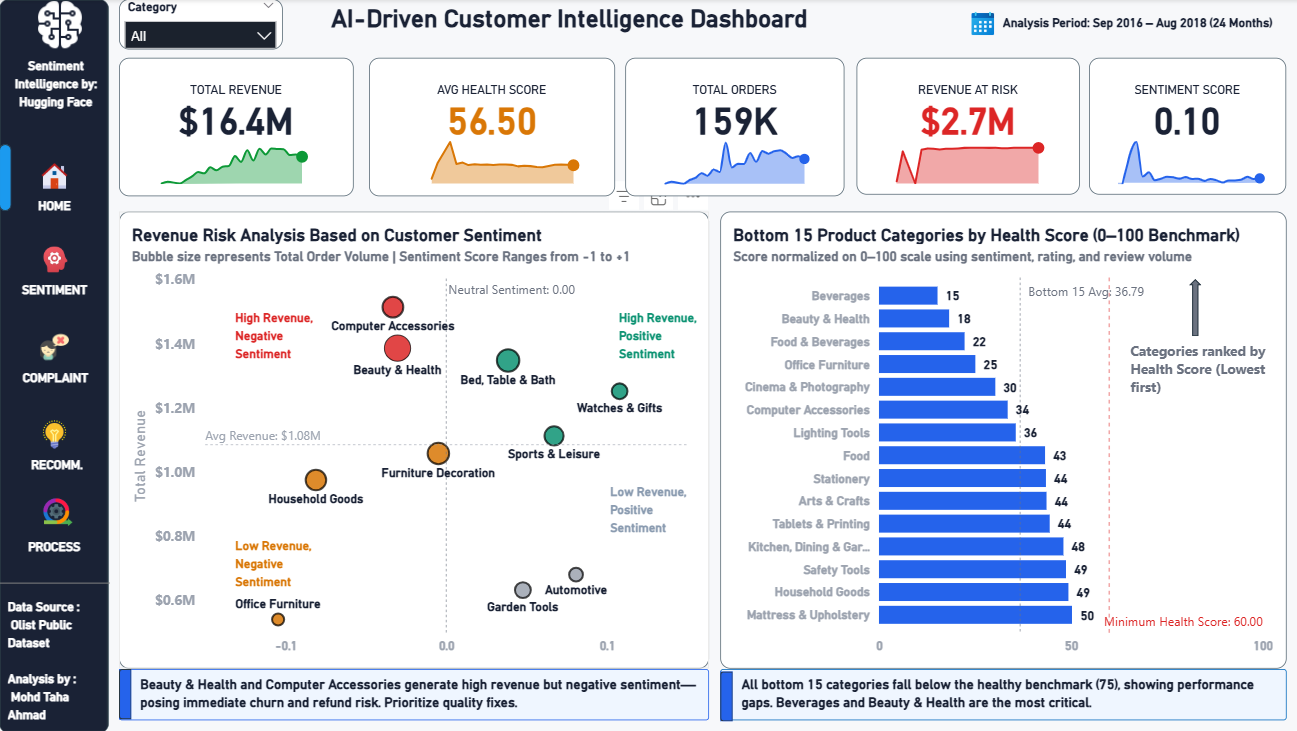

This screenshot's page, from the dashboard's own definition file:
{"tool":"powerbi","page":{"name":"Executive Overview","canvas":[1280,720],"ordinal":0},"visuals":[{"type":"scatterChart","title":"Revenue Risk Analysis Based on Customer Sentiment","fields":{"Y":["sales_sentiment_table.TOTAL REVENUE"],"Size":["sales_sentiment_table.TOTAL ORDERS"],"Category":["sales_sentiment_table.clean category"],"X":["sales_sentiment_table.AVG SENTIMENT SCORE"]},"box":[118,208.6,579.1,448.7],"z":0},{"type":"textbox","box":[118,657.3,579.1,50.8],"z":1000},{"type":"cardVisual","fields":{"Data":["Sum(sales_sentiment_table.total_revenue)"]},"box":[118,57.6,230.5,135.8],"z":2000},{"type":"cardVisual","fields":{"Data":["category_health_table.avg health score"]},"box":[363.6,57.6,241.5,135.8],"z":3000},{"type":"cardVisual","fields":{"Data":["sales_sentiment_table.TOTAL ORDERS"]},"box":[614.8,57.6,215.4,135.8],"z":4000},{"type":"cardVisual","fields":{"Data":["complaint_analysis_table.REVENUE AT RISK"]},"box":[841.2,57.6,219.6,134.5],"z":5000},{"type":"cardVisual","fields":{"Data":["Avg(sales_sentiment_table.average_sentiment_score)"]},"box":[1070.3,57.6,193.5,134.5],"z":6000},{"type":"textbox","box":[708.1,657.3,555.7,50.8],"z":7000},{"type":"textbox","box":[603.8,297.8,108.4,65.9],"z":8000},{"type":"textbox","box":[226.4,297.8,112.5,64.5],"z":9000},{"type":"textbox","box":[595.5,469.3,87.8,89.2],"z":10000},{"type":"textbox","box":[226.4,521.4,105.7,74.1],"z":11000},{"type":"textbox","box":[1180.1,503.6,74.1,68.6],"z":12000},{"type":"clusteredBarChart","title":"Bottom 15 Product Categories by Health Score (0–100 Benchmark)","fields":{"Y":["Avg(category_health_table.health_score)"],"Category":["category_health_table.Category English"]},"box":[708.1,208.6,555.7,448.7],"z":13000},{"type":"shape","box":[0,0,108,720.4],"z":14000},{"type":"shape","box":[0,142.7,12.3,65.9],"z":15000},{"type":"lineChart","fields":{"Y":["sales_sentiment_table.TOTAL REVENUE"],"Category":["sales_sentiment_table.year_month"]},"box":[149.6,131.7,157.8,50.8],"z":16000},{"type":"lineChart","fields":{"Y":["sales_sentiment_table.TOTAL ORDERS"],"Category":["sales_sentiment_table.year_month"]},"box":[643.6,131.7,156.4,51],"z":17000},{"type":"lineChart","fields":{"Y":["sales_sentiment_table.AVG SENTIMENT SCORE"],"Category":["sales_sentiment_table.year_month"]},"box":[1088.2,131.7,159.2,50.8],"z":18000},{"type":"lineChart","fields":{"Y":["Avg(category_health_table_new.health_score)"],"Category":["category_health_table_new.year_month_health"]},"box":[414.4,131.7,159.2,50.8],"z":19000},{"type":"lineChart","fields":{"Y":["Sum(category_health_table_new.revenue_at_risk)"],"Category":["category_health_table_new.year_month_health"]},"box":[871.4,131.7,159.2,50.8],"z":20000},{"type":"textbox","box":[1106,330.7,161.9,63.1],"z":21000},{"type":"shape","box":[1167.8,274.4,12.3,56.3],"z":22000},{"type":"slicer","fields":{"Values":["category_health_table.Category English"]},"box":[118,0,160.5,49.4],"z":23000},{"type":"textbox","box":[980.4,8.6,283.4,31.9],"z":24000},{"type":"image","box":[950.9,8.6,29.4,31.9],"z":25000},{"type":"textbox","box":[278.6,0,562.6,43.9],"z":26000},{"type":"shape","box":[118,657.3,12.3,49.4],"z":27000},{"type":"shape","box":[708.1,660,12.3,49],"z":28000},{"type":"textbox","box":[4.1,581.4,104.3,138.6],"z":29000},{"type":"image","box":[11,0,97.4,50.8],"z":30000},{"type":"textbox","box":[4.1,50.8,104.3,68.6],"z":31000},{"type":"shape","box":[0,558.5,108.4,30.2],"z":32000},{"type":"textbox","box":[31.6,188,45.3,34.3],"z":33000},{"type":"textbox","box":[2.7,270.3,104.3,34.3],"z":34000},{"type":"textbox","box":[13.7,356.8,83.7,31.6],"z":35000},{"type":"image","box":[39.8,240.1,30.2,30.2],"z":36000},{"type":"image","box":[39.8,326.6,30.2,30.2],"z":37000},{"type":"image","box":[39.8,157.8,30.2,30.2],"z":38000},{"type":"image","box":[39.8,411.7,30.2,30.2],"z":39000},{"type":"textbox","box":[17.8,441.9,76.8,31.6],"z":40000},{"type":"image","box":[41.2,488.5,30.2,30.2],"z":41000},{"type":"textbox","box":[0,522.8,108.4,31.6],"z":42000}]}

Visuals, with their boxes on the page's 1280x720 design canvas (x1, y1, x2, y2). These are canvas units, not pixel positions in the 1297x731 screenshot, which may show the page scaled, cropped or inside an application window:
"Revenue Risk Analysis Based on Customer Sentiment" scatterChart: <region>118, 209, 697, 657</region>
textbox: <region>118, 657, 697, 708</region>
cardVisual - Sum(sales_sentiment_table.total_revenue): <region>118, 58, 348, 193</region>
cardVisual - category_health_table.avg health score: <region>364, 58, 605, 193</region>
cardVisual - sales_sentiment_table.TOTAL ORDERS: <region>615, 58, 830, 193</region>
cardVisual - complaint_analysis_table.REVENUE AT RISK: <region>841, 58, 1061, 192</region>
cardVisual - Avg(sales_sentiment_table.average_sentiment_score): <region>1070, 58, 1264, 192</region>
textbox: <region>708, 657, 1264, 708</region>
textbox: <region>604, 298, 712, 364</region>
textbox: <region>226, 298, 339, 362</region>
textbox: <region>596, 469, 683, 558</region>
textbox: <region>226, 521, 332, 596</region>
textbox: <region>1180, 504, 1254, 572</region>
"Bottom 15 Product Categories by Health Score (0–100 Benchmark)" clusteredBarChart: <region>708, 209, 1264, 657</region>
shape: <region>0, 0, 108, 720</region>
shape: <region>0, 143, 12, 209</region>
lineChart - sales_sentiment_table.TOTAL REVENUE x sales_sentiment_table.year_month: <region>150, 132, 307, 182</region>
lineChart - sales_sentiment_table.TOTAL ORDERS x sales_sentiment_table.year_month: <region>644, 132, 800, 183</region>
lineChart - sales_sentiment_table.AVG SENTIMENT SCORE x sales_sentiment_table.year_month: <region>1088, 132, 1247, 182</region>
lineChart - Avg(category_health_table_new.health_score) x category_health_table_new.year_month_health: <region>414, 132, 574, 182</region>
lineChart - Sum(category_health_table_new.revenue_at_risk) x category_health_table_new.year_month_health: <region>871, 132, 1031, 182</region>
textbox: <region>1106, 331, 1268, 394</region>
shape: <region>1168, 274, 1180, 331</region>
slicer - category_health_table.Category English: <region>118, 0, 278, 49</region>
textbox: <region>980, 9, 1264, 40</region>
image: <region>951, 9, 980, 40</region>
textbox: <region>279, 0, 841, 44</region>
shape: <region>118, 657, 130, 707</region>
shape: <region>708, 660, 720, 709</region>
textbox: <region>4, 581, 108, 720</region>
image: <region>11, 0, 108, 51</region>
textbox: <region>4, 51, 108, 119</region>
shape: <region>0, 558, 108, 589</region>
textbox: <region>32, 188, 77, 222</region>
textbox: <region>3, 270, 107, 305</region>
textbox: <region>14, 357, 97, 388</region>
image: <region>40, 240, 70, 270</region>
image: <region>40, 327, 70, 357</region>
image: <region>40, 158, 70, 188</region>
image: <region>40, 412, 70, 442</region>
textbox: <region>18, 442, 95, 474</region>
image: <region>41, 488, 71, 519</region>
textbox: <region>0, 523, 108, 554</region>
